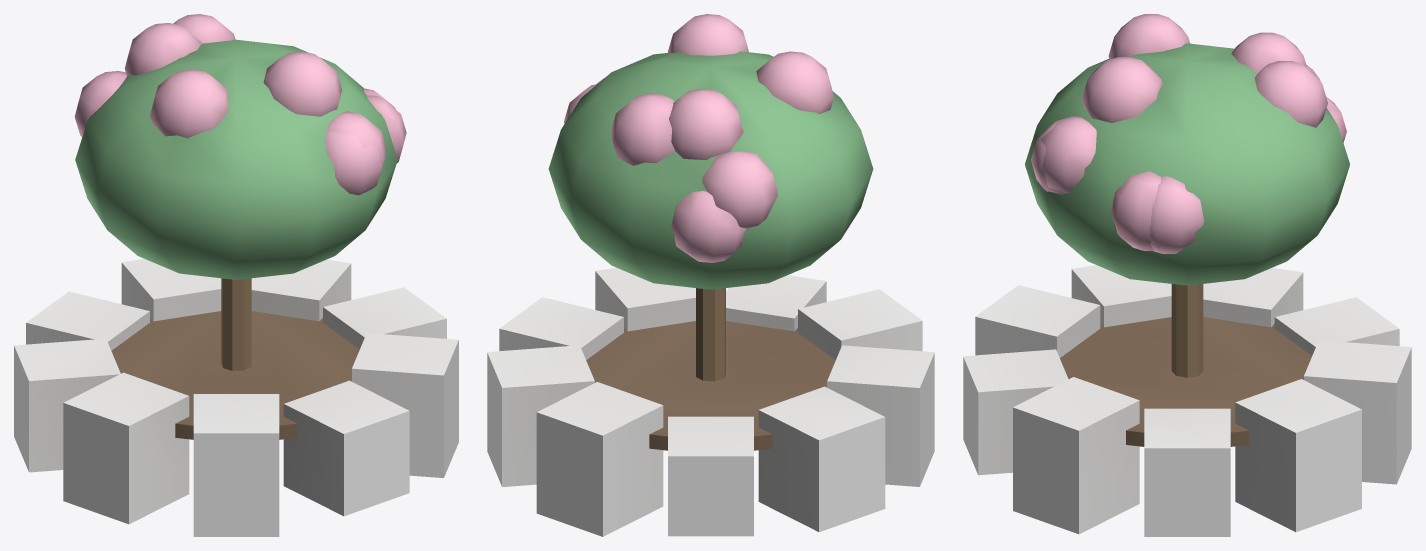
The model's file is Kerb_StoneBed.fbx.
3 renders of one model, left to right at view 1: azimuth 30°, elevation 25°; view 2: azimuth 150°, elevation 25°; view 3: azimuth 270°, elevation 25°, orthographic.
Parts seen in each view (by area): view 1: Kerb_StoneBed; view 2: Kerb_StoneBed; view 3: Kerb_StoneBed.
Part boxes in pixels (box(x1,y1,x2,y2)): Kerb_StoneBed: box(14, 14, 458, 536); Kerb_StoneBed: box(487, 14, 934, 536); Kerb_StoneBed: box(963, 14, 1411, 536).
Bounding box in the file's own units: 1.12 × 1.14 × 1.14.
